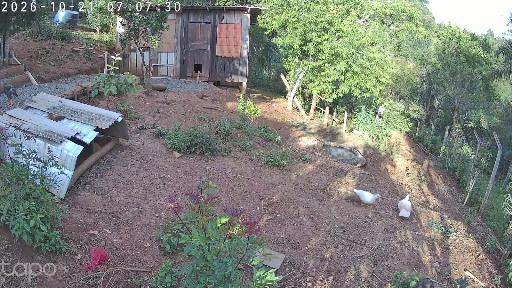frango: (0, 82, 19, 107)
pato: (354, 187, 381, 208), (398, 194, 411, 218)
